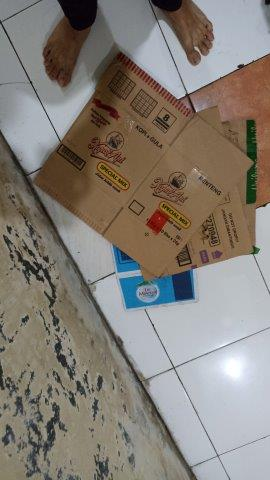kardus: (36, 53, 256, 309)
